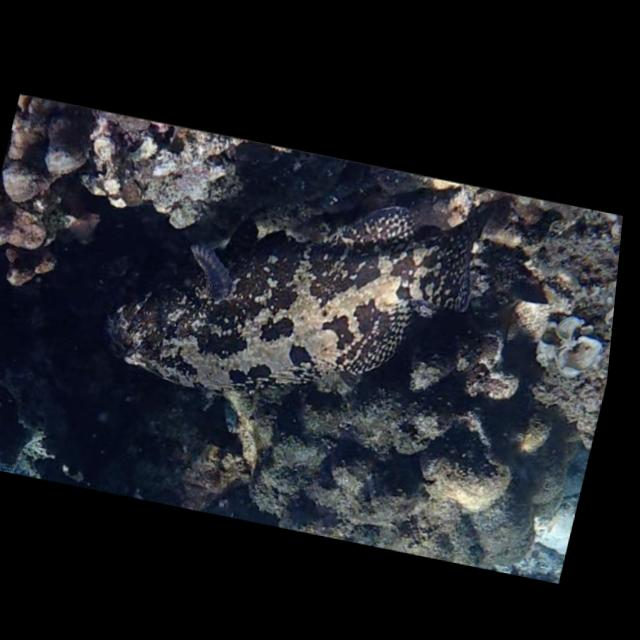Groupers: (89, 152, 490, 437)
